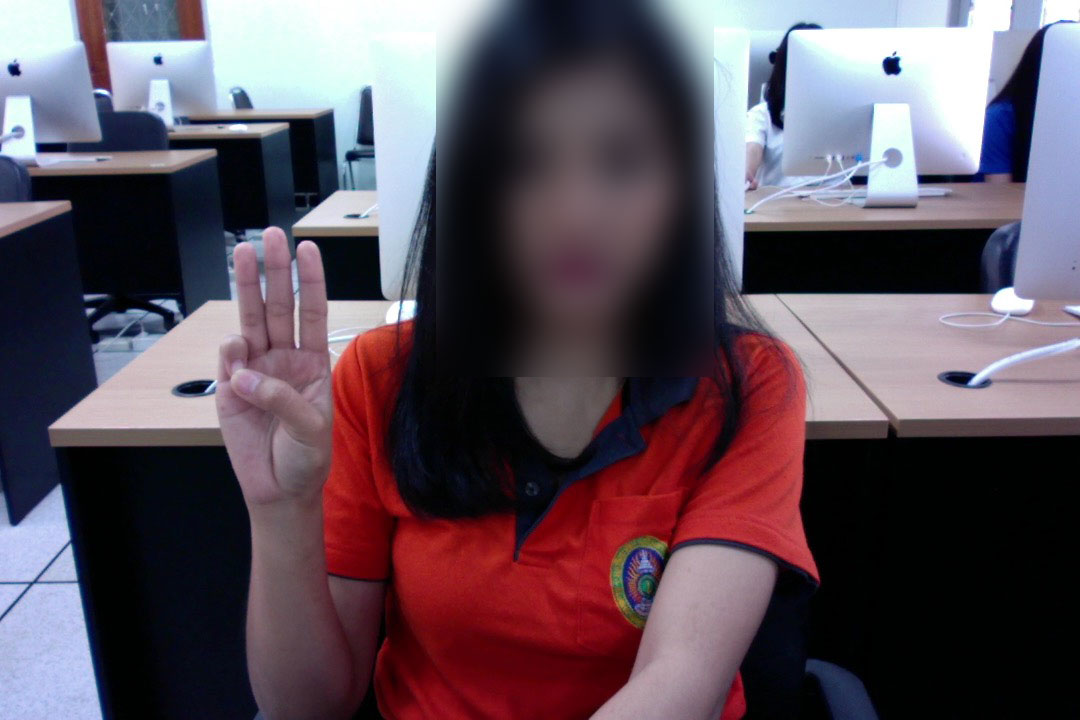wor: (207, 222, 346, 520)
